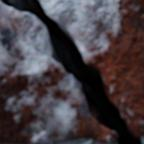broken_brick: (0, 2, 118, 143), (41, 0, 143, 136)
crack: (0, 0, 141, 143)
